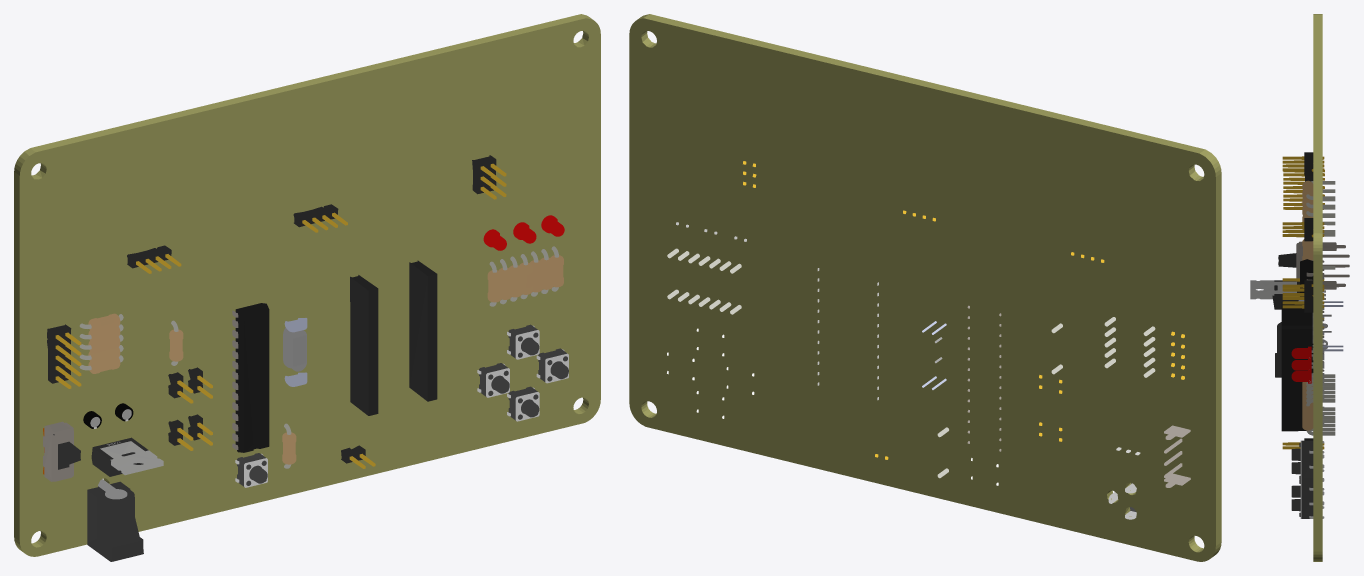
File: OBJ_PCB_PwnPad v1.0.obj
3 renders of one model, left to right at view 1: azimuth 30°, elevation 25°; view 2: azimuth 150°, elevation 25°; view 3: azimuth 270°, elevation 25°, orthographic. The views are drawn at different scales.
Bounding box in the file's own units: 589 × 393 × 108.
